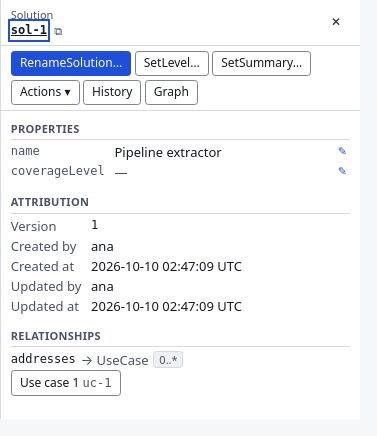
Entity panel: the action bar › puts at most three updates in the bar, the others in an Actions menu
Click the button "Actions ▾" at (45, 92), box [11,80,80,105]
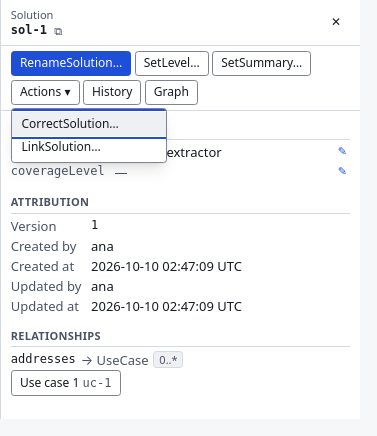
Result: the menu items read "CorrectSolution…", "LinkSolution…", in this order
Click the menu item "LinkSolution…" at (89, 147), box [12,136,166,159]
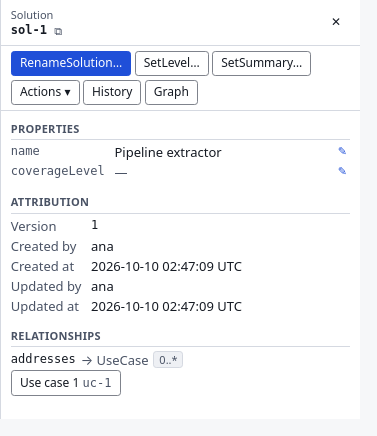
Result: the menu is gone
